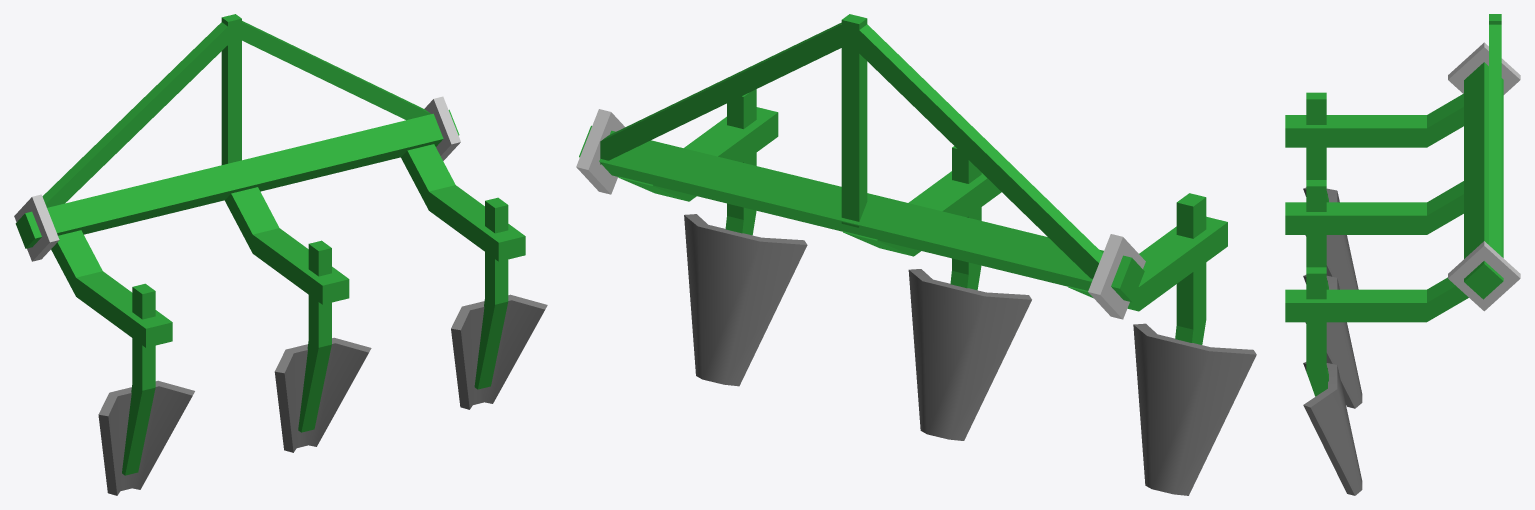
Rendered from Plow_2.FBX.
3 views of the same model, side by side, from view 1: azimuth 30°, elevation 25°; view 2: azimuth 150°, elevation 25°; view 3: azimuth 270°, elevation 25° (orthographic). The views are drawn at different scales.
Parts seen in each view (by area): view 1: Plow_2; view 2: Plow_2; view 3: Plow_2.
Boxes of the visible parts, x1=… form: Plow_2: x1=14, y1=14, x2=547, y2=495; Plow_2: x1=576, y1=14, x2=1256, y2=495; Plow_2: x1=1285, y1=14, x2=1520, y2=495.
Bounding box in the file's own units: 1.43 × 1.15 × 0.6407.
1 material, 1 textured.
